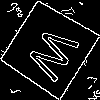W: (24, 23, 89, 89)
